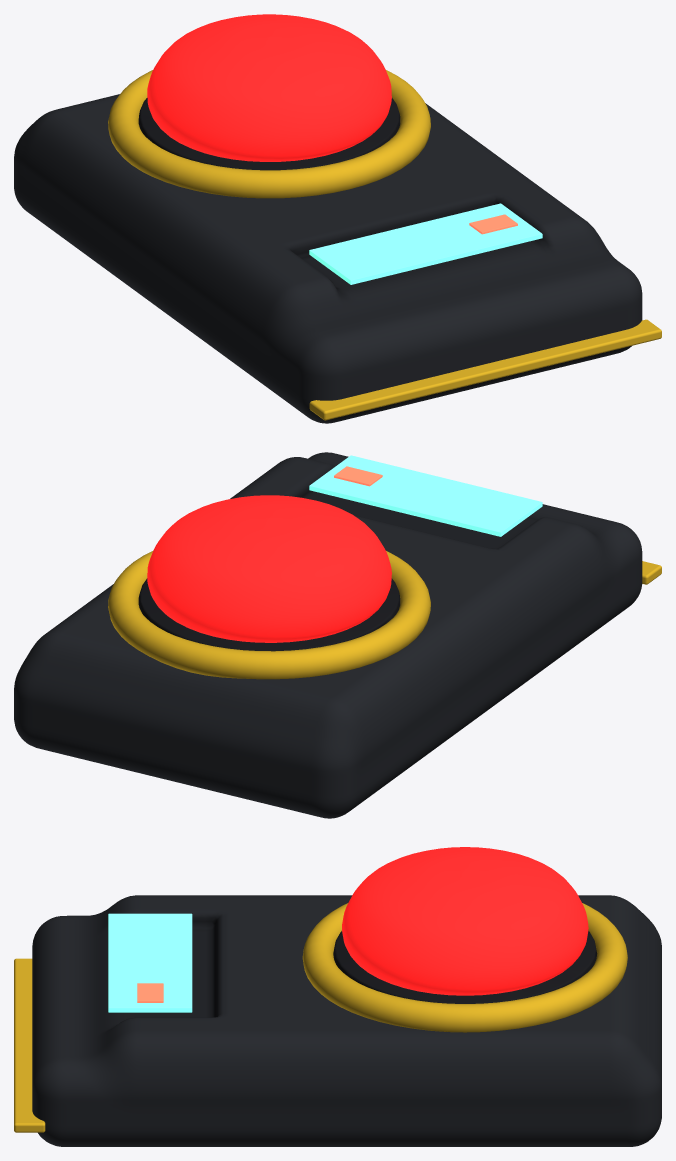
Rendered from gravity_remote.glb.
3 renders of one model, top to bottom at view 1: azimuth 30°, elevation 25°; view 2: azimuth 150°, elevation 25°; view 3: azimuth 270°, elevation 25°, orthographic.
Size of the model in its own units: 0.9969 by 0.5701 by 1.64.
